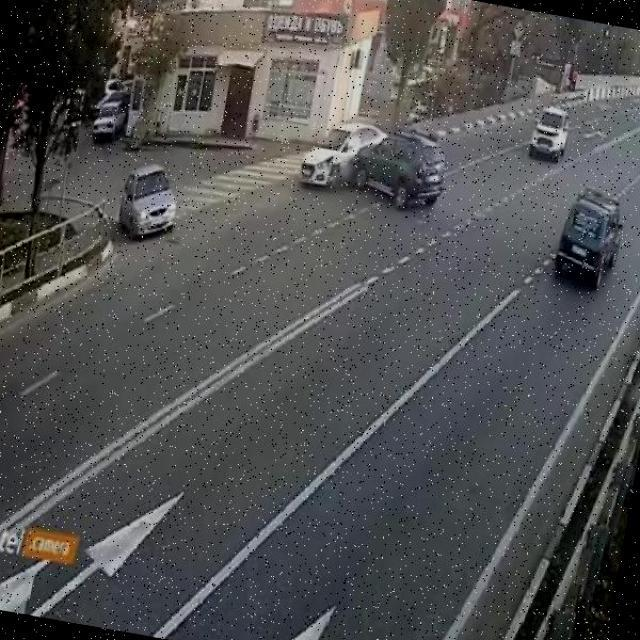accident: (292, 102, 456, 228)
